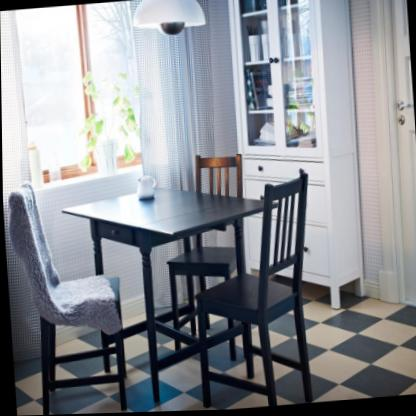Chair: (184, 167, 322, 412), (3, 173, 129, 416)
